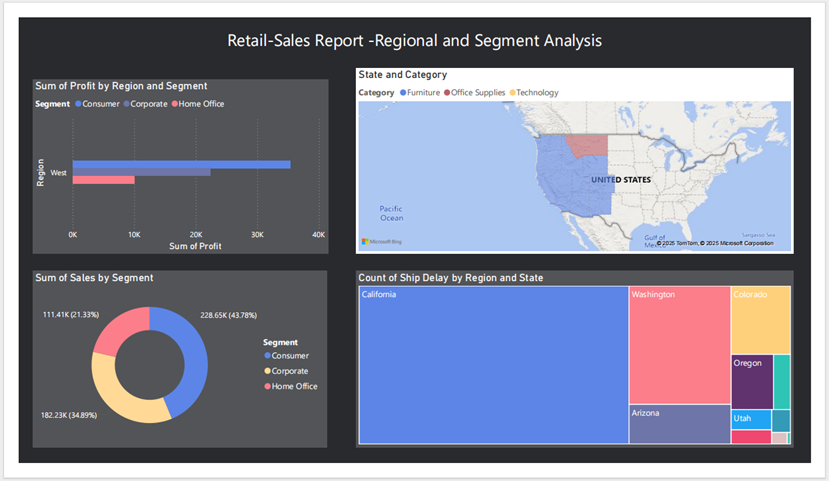

The page's visual inventory and layout, read from the dashboard file:
{"tool":"powerbi","page":{"name":"Regional and Segment Analysis","canvas":[1280,720],"ordinal":1},"visuals":[{"type":"clusteredBarChart","fields":{"Category":["Sales.Region"],"Y":["Sum(Sales.Profit)"],"Series":["Sales.Segment"]},"box":[21.7,100,478.3,281.7],"z":0},{"type":"treemap","fields":{"Group":["Sales.Region","Sales.State"],"Values":["CountNonNull(Sales.Ship Delay)"]},"box":[545,410,706.7,285],"z":1000},{"type":"donutChart","fields":{"Category":["Sales.Segment"],"Y":["Sum(Sales.Sales)"]},"box":[21.7,410,476.7,285],"z":2000},{"type":"filledMap","fields":{"Category":["Sales.State"],"Series":["Sales.Category"]},"box":[545,81.7,706.7,300],"z":3000},{"type":"textbox","box":[316.7,11.7,646.7,101.7],"z":3001}]}

Visuals, with their boxes on the page's 1280x720 design canvas (x1, y1, x2, y2). These are canvas units, not pixel positions in the 829x481 screenshot, which may show the page scaled, cropped or inside an application window:
clusteredBarChart - Sales.Region x Sum(Sales.Profit): x1=22 y1=100 x2=500 y2=382
treemap - Sales.Region x Sales.State: x1=545 y1=410 x2=1252 y2=695
donutChart - Sales.Segment x Sum(Sales.Sales): x1=22 y1=410 x2=498 y2=695
filledMap - Sales.State x Sales.Category: x1=545 y1=82 x2=1252 y2=382
textbox: x1=317 y1=12 x2=963 y2=113
